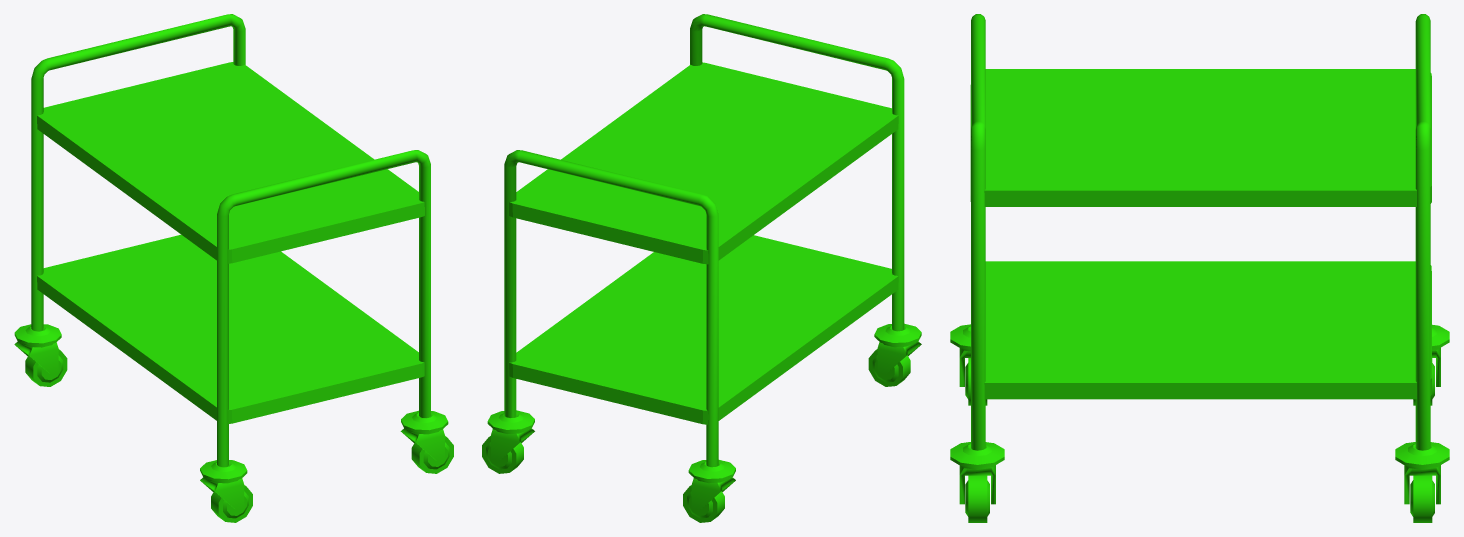
File: Chariot_01_Lod0.fbx
The picture shows the model from 3 angles, left to right: view 1: azimuth 30°, elevation 25°; view 2: azimuth 150°, elevation 25°; view 3: azimuth 270°, elevation 25°; orthographic projection. The views are drawn at different scales.
Parts seen in each view (by area): view 1: Chariot_01_Lod0; view 2: Chariot_01_Lod0; view 3: Chariot_01_Lod0.
Part boxes in pixels (<box>): Chariot_01_Lod0: <box>14,14,453,522</box>; Chariot_01_Lod0: <box>482,14,921,522</box>; Chariot_01_Lod0: <box>950,14,1449,522</box>.
Bounding box in the file's own units: 68.3 × 85.8 × 99.8.
